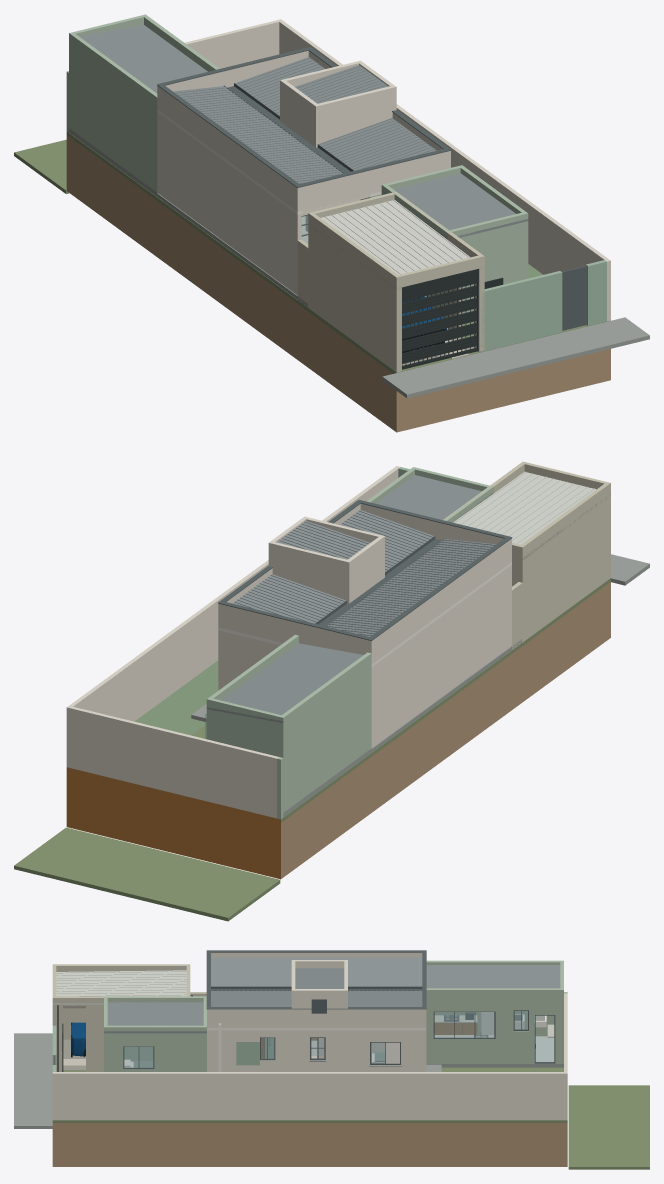
The model's file is casa-bp-garagem-fechada.glb.
The picture shows the model from 3 angles, top to bottom: view 1: azimuth 30°, elevation 25°; view 2: azimuth 150°, elevation 25°; view 3: azimuth 270°, elevation 25°; orthographic projection. The views are drawn at different scales.
Parts seen in each view (by area): view 1: Solo em corte esquemático — perfil lateral não levantado, Parede cega / divisa do desenho, Garagem — fechamento lateral proposto; apoios independentes , Fundos — fechamento esquerdo proposto, Passeio público — contexto ilustrativo, Fechamento frontal com acessos sugeridos (×2), Muro lateral direito do desenho — 2,00 m, Garagem — painel termoacústico ilustrativo, Platibanda frente / fundo (×2), Volume elevado caixa d’água (×2), Pano 1 — social, Fundos — cobertura independente ilustrativa (+23 smaller); view 2: Solo em corte esquemático — perfil lateral não levantado, Face indicativa de contenção — 2 m estimados; seção e fundaç, Muro fundos — 2,00 m sobre terreno, Referência do nível do vizinho — extensão apenas ilustrativa, Parede cega / divisa do desenho, Muro lateral direito do desenho — 2,00 m, Garagem — fechamento lateral proposto; apoios independentes , Fundos — fechamento esquerdo proposto, Fundos — cobertura independente ilustrativa, Garagem — painel termoacústico ilustrativo, Platibanda frente / fundo (×2), Volume elevado caixa d’água (×2) (+20 smaller); view 3: Muro lateral direito do desenho — 2,00 m, Solo em corte esquemático — perfil lateral não levantado, Referência do nível do vizinho — extensão apenas ilustrativa, Lateral existente — só janela do quarto reorganizada em A (×5), Platibanda lateral (×2), Pano 1 — social, Passeio público — contexto ilustrativo, Garagem — painel termoacústico ilustrativo, Fundos — fechamento direito da cozinha (×4), Fundos — cobertura independente ilustrativa, Suíte ampliada — lateral para o corredor (×3), Suíte ampliada — cobertura ilustrativa (+23 smaller).
Boxes of the visible parts, <box> form: Solo em corte esquemático — perfil lateral não levantado: <box>66,135,610,432</box>; Parede cega / divisa do desenho: <box>157,112,301,294</box>; Garagem — fechamento lateral proposto; apoios independentes : <box>308,223,400,372</box>; Fundos — fechamento esquerdo proposto: <box>69,48,157,192</box>; Passeio público — contexto ilustrativo: <box>382,317,649,398</box>; Fechamento frontal com acessos sugeridos (×2): <box>480,260,606,351</box>; Muro lateral direito do desenho — 2,00 m: <box>277,19,610,321</box>; Garagem — painel termoacústico ilustrativo: <box>321,200,470,274</box>; Platibanda frente / fundo (×2): <box>165,51,446,210</box>; Volume elevado caixa d’água (×2): <box>280,79,392,147</box>; Pano 1 — social: <box>173,86,342,183</box>; Fundos — cobertura independente ilustrativa: <box>79,25,207,93</box>; Solo em corte esquemático — perfil lateral não levantado: <box>281,582,610,878</box>; Face indicativa de contenção — 2 m estimados; seção e fundaç: <box>66,767,280,879</box>; Muro fundos — 2,00 m sobre terreno: <box>70,706,278,818</box>; Referência do nível do vizinho — extensão apenas ilustrativa: <box>14,827,280,921</box>; Parede cega / divisa do desenho: <box>371,565,511,747</box>; Muro lateral direito do desenho — 2,00 m: <box>66,466,399,767</box>; Garagem — fechamento lateral proposto; apoios independentes : <box>520,493,610,642</box>; Fundos — fechamento esquerdo proposto: <box>279,668,371,812</box>; Fundos — cobertura independente ilustrativa: <box>207,643,363,722</box>; Garagem — painel termoacústico ilustrativo: <box>453,472,596,544</box>; Platibanda frente / fundo (×2): <box>222,503,503,654</box>; Volume elevado caixa d’água (×2): <box>272,535,384,603</box>; Muro lateral direito do desenho — 2,00 m: <box>52,1072,567,1120</box>; Solo em corte esquemático — perfil lateral não levantado: <box>52,1123,567,1166</box>; Referência do nível do vizinho — extensão apenas ilustrativa: <box>568,1085,649,1169</box>; Lateral existente — só janela do quarto reorganizada em A (×5): <box>207,1030,426,1071</box>; Platibanda lateral (×2): <box>207,952,426,1027</box>; Pano 1 — social: <box>211,957,422,986</box>; Passeio público — contexto ilustrativo: <box>14,1033,52,1128</box>; Garagem — painel termoacústico ilustrativo: <box>56,970,186,996</box>; Fundos — fechamento direito da cozinha (×4): <box>426,1001,503,1063</box>; Fundos — cobertura independente ilustrativa: <box>426,965,560,988</box>; Suíte ampliada — lateral para o corredor (×3): <box>104,1034,206,1071</box>; Suíte ampliada — cobertura ilustrativa: <box>104,1002,206,1033</box>.
Bounding box in the file's own units: 8.5 × 6.68 × 24.7.
